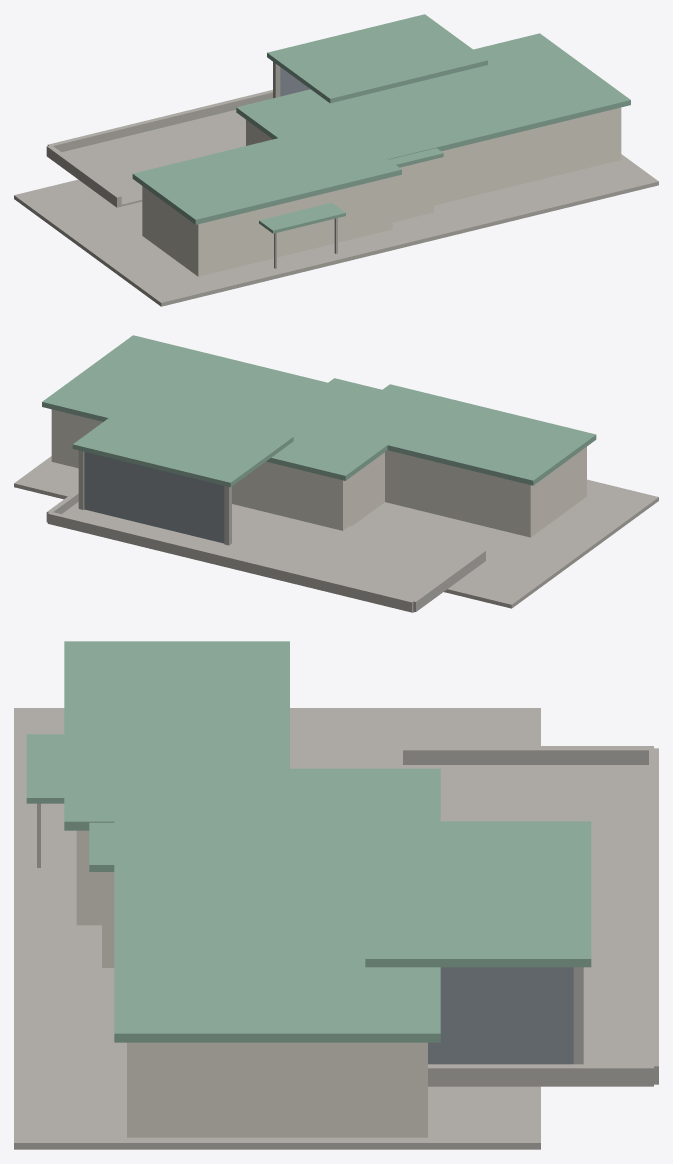
Rendered from cp_tavern.glb.
3 views of the same model, one above another, from view 1: azimuth 30°, elevation 25°; view 2: azimuth 150°, elevation 25°; view 3: azimuth 270°, elevation 25° (orthographic). The views are drawn at different scales.
Visible parts, largest first — view 1: TavernOnTheGreen; view 2: TavernOnTheGreen; view 3: TavernOnTheGreen.
Boxes of the visible parts, x1,y1,x2,y2 form: TavernOnTheGreen: [14, 14, 658, 306]; TavernOnTheGreen: [14, 335, 658, 612]; TavernOnTheGreen: [14, 641, 658, 1149].
Bounding box in the file's own units: 41 × 5.58 × 25.7.
